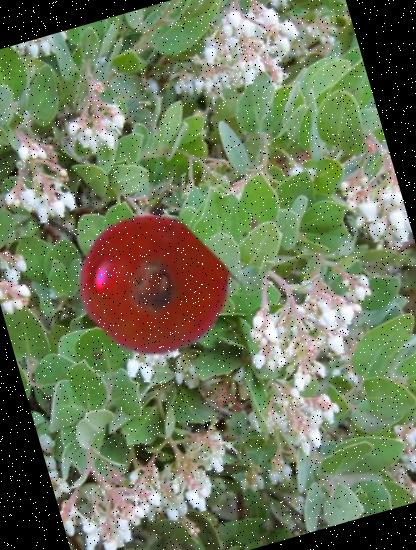Redcurrant: (60, 196, 242, 376)
